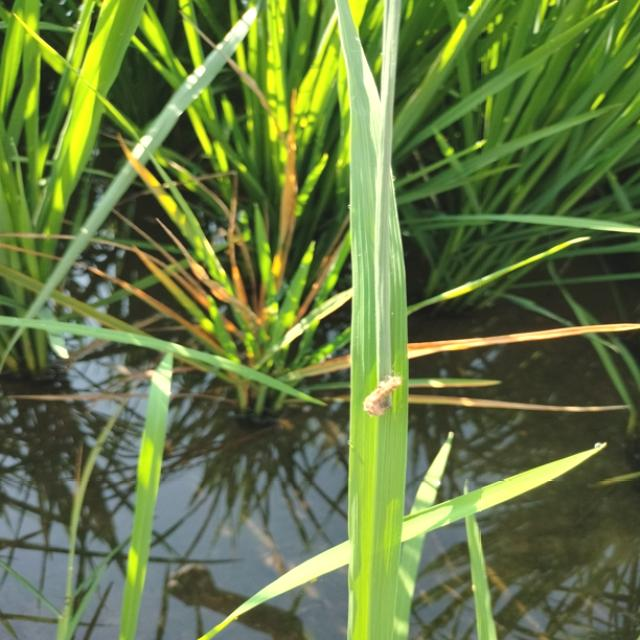Brown spot: (406, 318, 640, 359)
